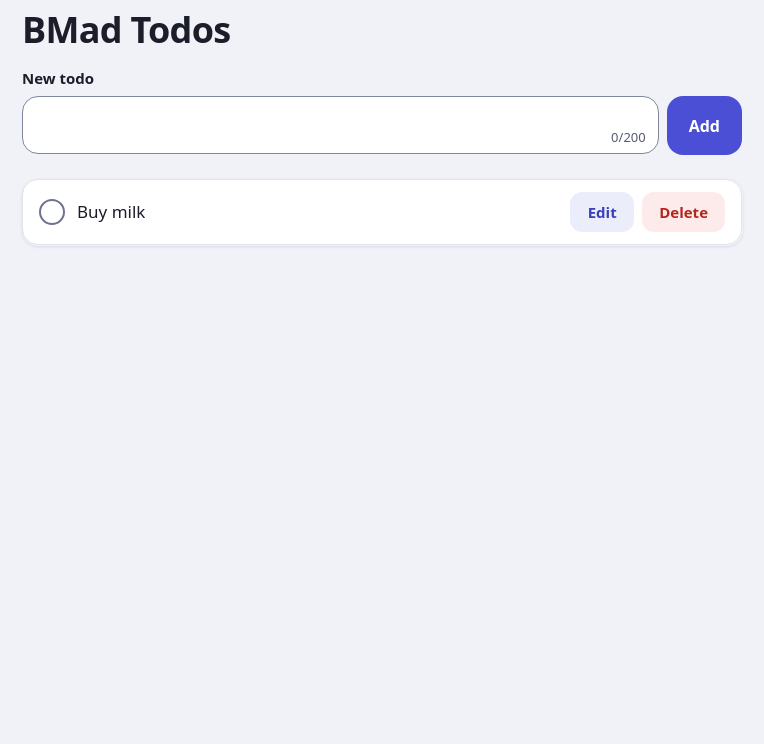
it: List states: empty › K5 the Empty panel waits until the last Leaving row has unmounted
The image size is (764, 744).
Later steps or results of the test are not shown.
Click the button with aria-label "Delete “Buy milk”" at point(684, 212), box [642,192,725,232]
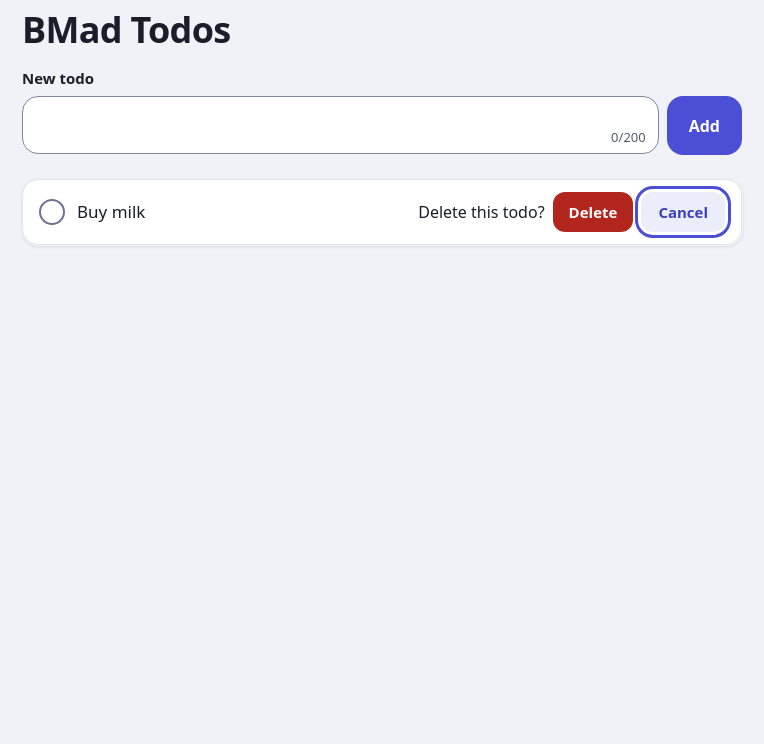
Click the button with aria-label "Delete “Buy milk”" at point(593, 212), box [553,192,633,232]
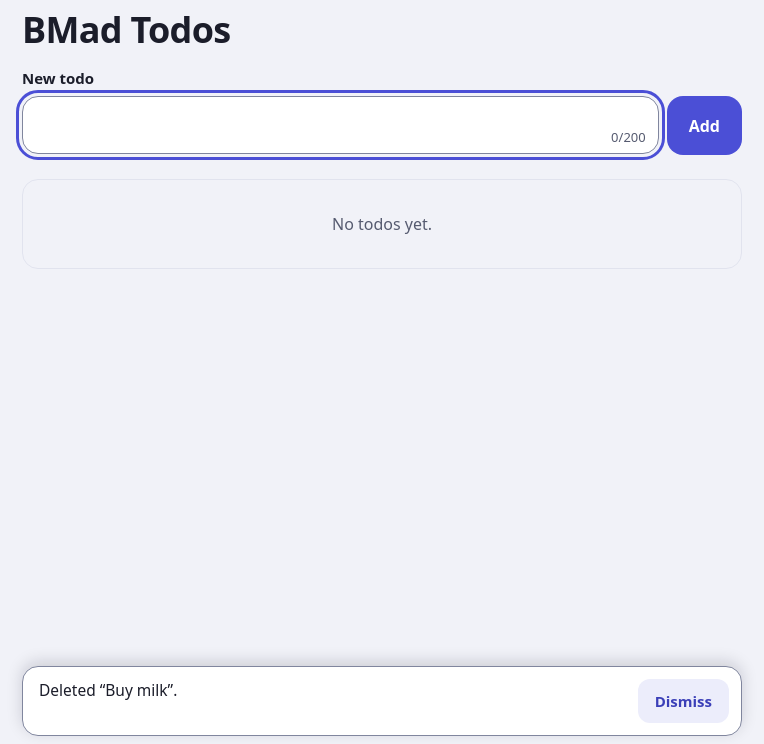
Check: the text "No todos yet." is shown, box [22,179,742,269]
